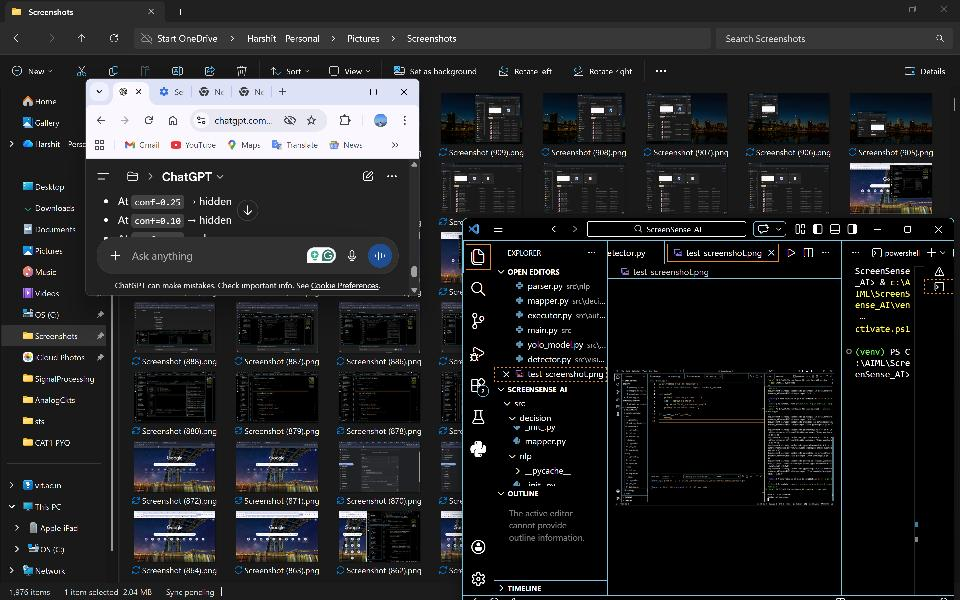close_button: (395, 82, 414, 102), (930, 220, 947, 239), (936, 1, 953, 18)
maximize_button: (362, 82, 387, 102), (898, 220, 919, 240), (904, 1, 925, 19)
minimize_button: (331, 81, 355, 103), (871, 1, 894, 18), (867, 220, 887, 238)
